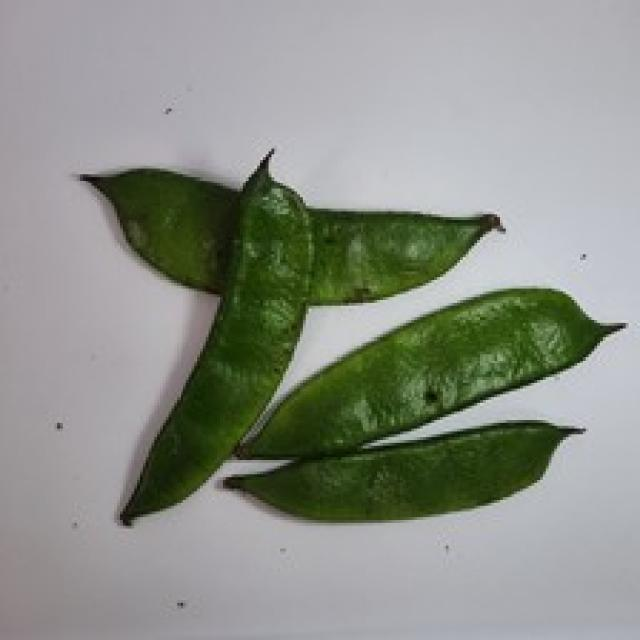Bean: (114, 145, 314, 526), (228, 283, 626, 460), (77, 163, 506, 306)
